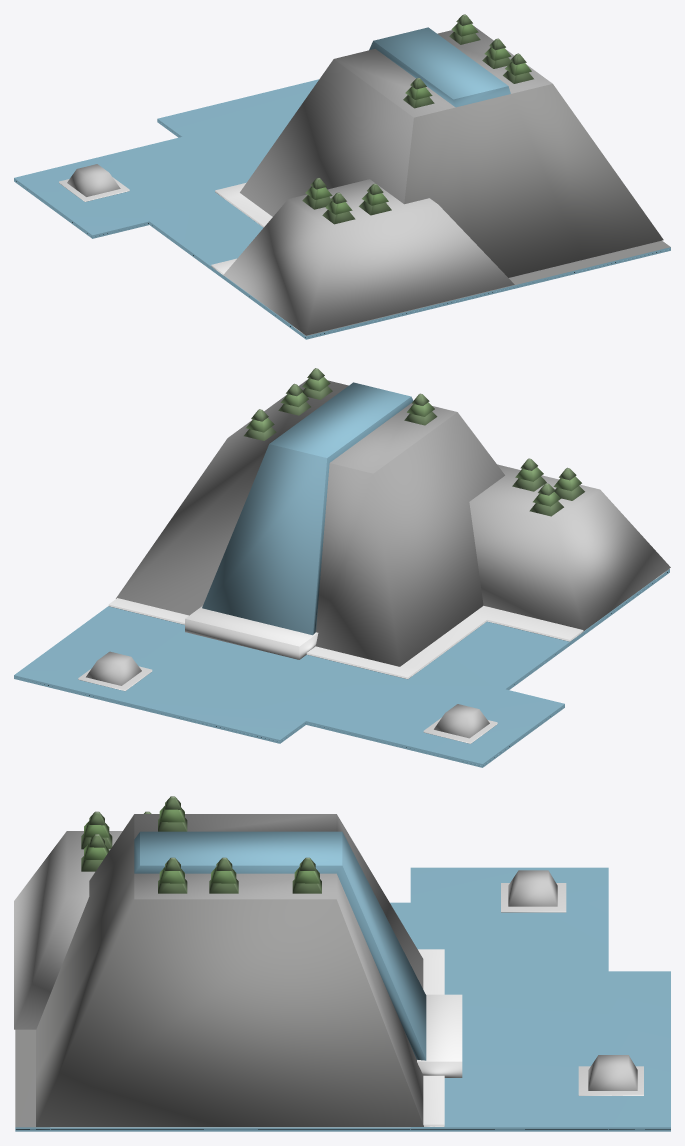
File: Waterfall.fbx
3 views of the same model, one above another, from view 1: azimuth 30°, elevation 25°; view 2: azimuth 150°, elevation 25°; view 3: azimuth 270°, elevation 25° (orthographic). The views are drawn at different scales.
Parts seen in each view (by area): view 1: Rock_000, Cube, Rock_001, Rock_002, Cube_004, Tree_000, Tree_001, Tree_002, Tree_003, Tree_004, Tree_006, Tree_005; view 2: Rock_000, Cube, Rock_001, Cube_004, Cube_001, Rock_002, Rock_003, Tree_001, Tree_002, Tree_000, Tree_006, Tree_003 (+2 smaller); view 3: Rock_000, Cube, Rock_001, Cube_001, Cube_004, Rock_002, Rock_003, Cube_003, Tree_006, Tree_005, Tree_004, Tree_003 (+3 smaller).
Part boxes in pixels (x1,y1,x2,y2): Rock_000: [240, 25, 663, 277]; Cube: [14, 79, 670, 339]; Rock_001: [223, 179, 514, 335]; Rock_002: [67, 164, 120, 196]; Cube_004: [211, 182, 272, 276]; Tree_000: [322, 192, 355, 224]; Tree_001: [359, 183, 391, 215]; Tree_002: [302, 178, 332, 209]; Tree_003: [403, 78, 434, 108]; Tree_004: [503, 53, 533, 83]; Tree_006: [449, 14, 480, 44]; Tree_005: [482, 38, 511, 68]; Rock_000: [116, 379, 504, 666]; Cube: [14, 569, 669, 767]; Rock_001: [469, 464, 670, 630]; Cube_004: [108, 598, 583, 679]; Cube_001: [185, 606, 318, 659]; Rock_002: [434, 704, 489, 738]; Rock_003: [86, 651, 141, 685]; Tree_001: [512, 458, 546, 491]; Tree_002: [529, 483, 563, 516]; Tree_000: [553, 467, 584, 500]; Tree_006: [244, 409, 276, 440]; Tree_003: [404, 393, 437, 425]; Rock_000: [36, 814, 426, 1126]; Cube: [15, 867, 670, 1131]; Rock_001: [14, 831, 122, 1029]; Cube_001: [417, 994, 462, 1077]; Cube_004: [418, 949, 444, 1126]; Rock_002: [508, 870, 557, 906]; Rock_003: [588, 1055, 637, 1090]; Cube_003: [501, 883, 566, 912]; Tree_006: [292, 857, 321, 893]; Tree_005: [209, 857, 238, 893]; Tree_004: [158, 857, 187, 893]; Tree_003: [158, 796, 187, 831].
Bounding box in the file's own units: 11.69 × 4.68 × 12.48.
